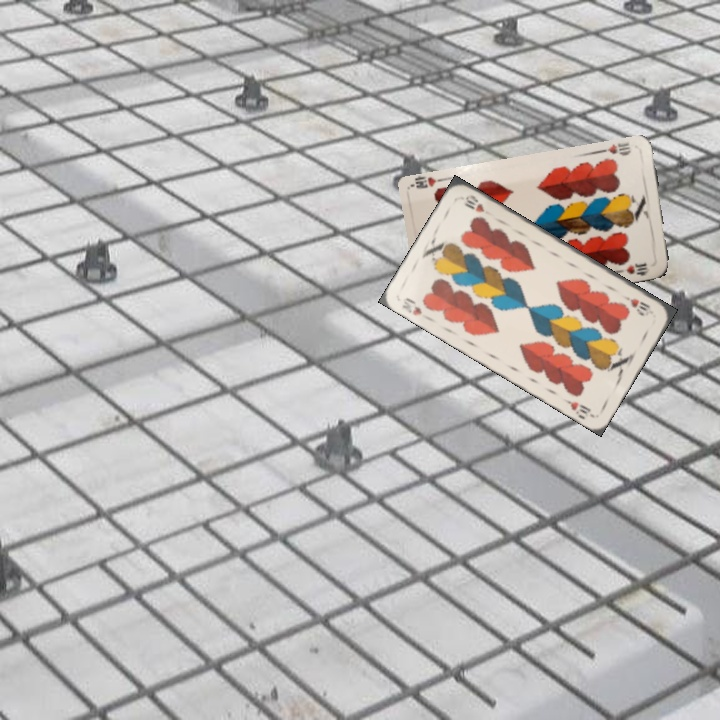H10: (619, 291, 653, 314), (597, 139, 633, 158), (398, 293, 424, 318)
